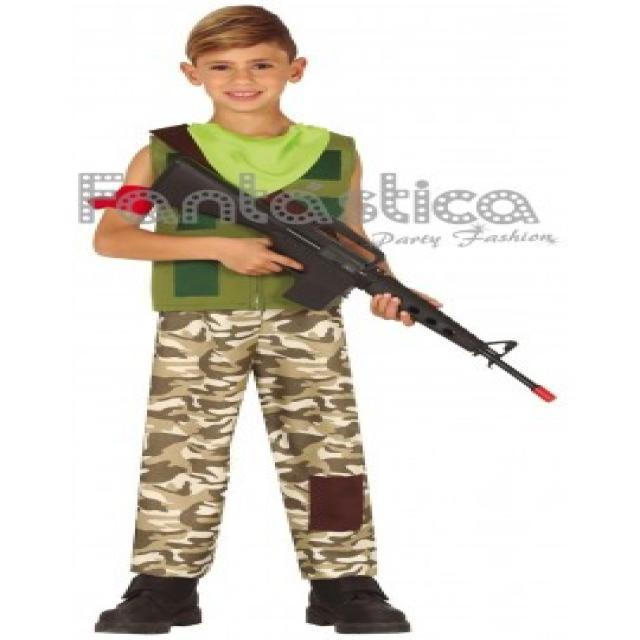weapon: (146, 158, 558, 403)
